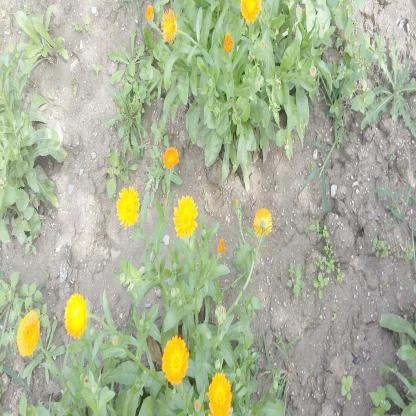marigold: (162, 338, 188, 383), (17, 311, 42, 357), (173, 194, 198, 238), (116, 186, 139, 225), (209, 376, 232, 415), (66, 296, 87, 332), (161, 11, 178, 41), (241, 0, 262, 24)
